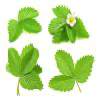Strawberry leaf: (20, 45, 40, 77), (75, 54, 95, 83), (55, 49, 75, 77), (48, 74, 75, 94), (18, 71, 45, 91), (7, 47, 22, 76), (73, 16, 91, 39), (19, 17, 43, 34), (7, 19, 23, 44), (17, 5, 39, 23), (51, 6, 73, 21), (65, 22, 79, 45), (47, 18, 68, 32)
